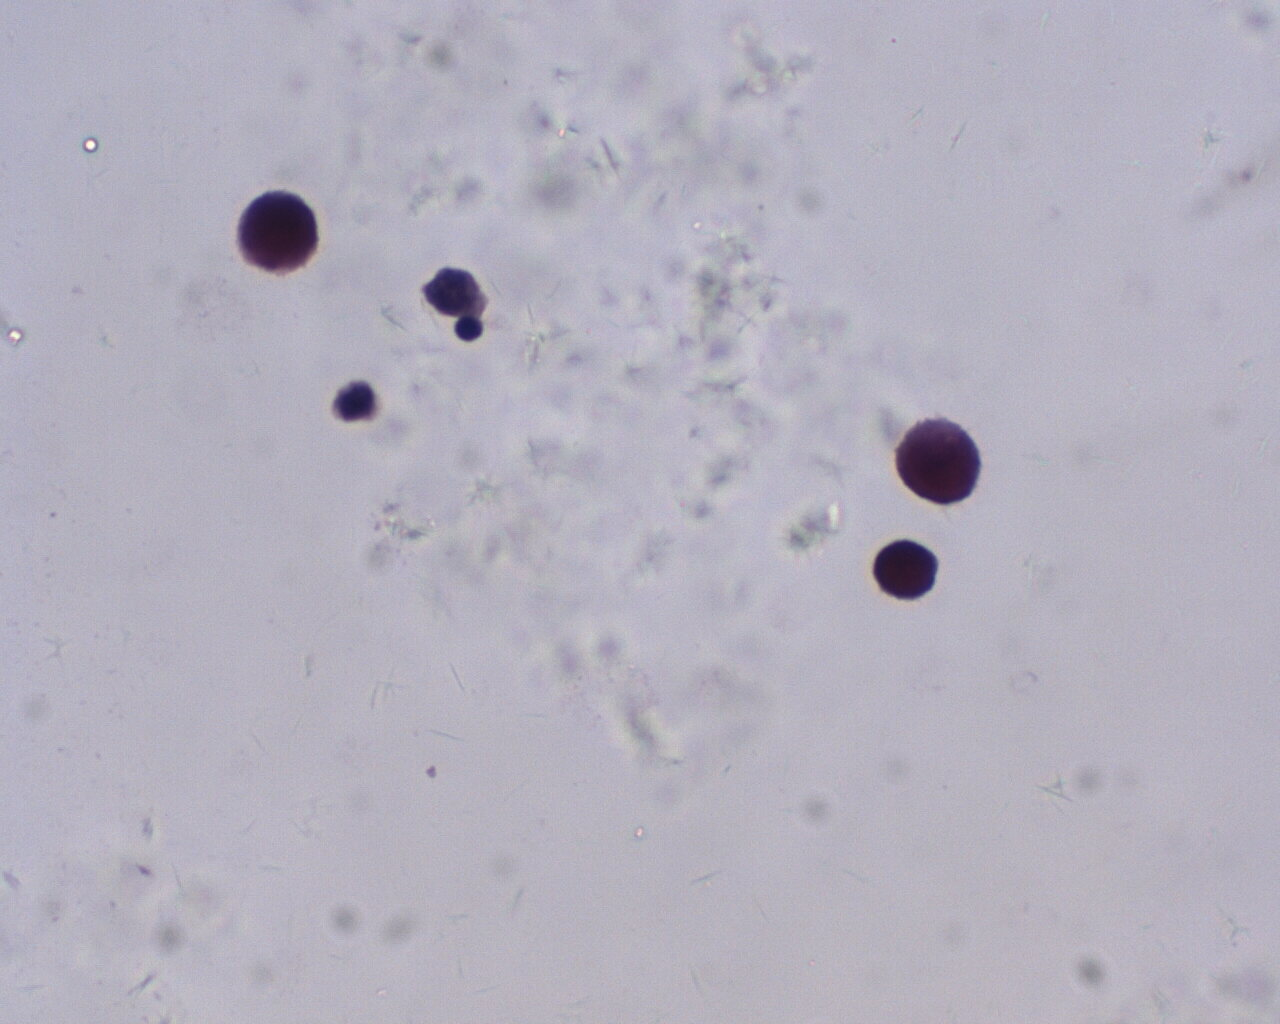ab: (897, 419, 982, 503), (239, 192, 320, 277), (872, 536, 939, 603)
lymph: (451, 315, 485, 342)
